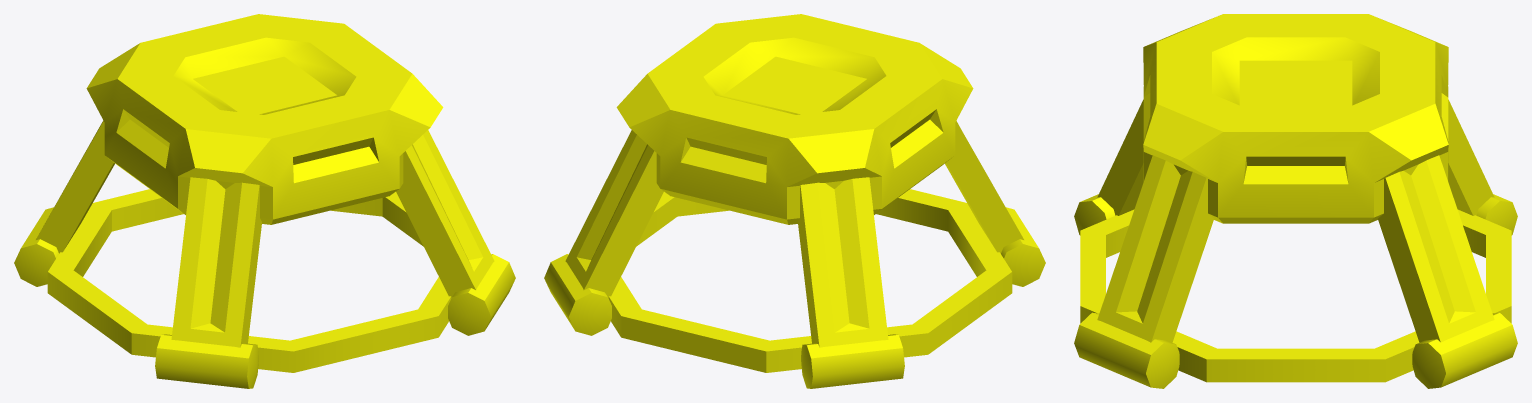
Rendered from kaykit-structure-low.glb.
3 views of the same model, side by side, from view 1: azimuth 30°, elevation 25°; view 2: azimuth 150°, elevation 25°; view 3: azimuth 270°, elevation 25° (orthographic). The views are drawn at different scales.
Parts seen in each view (by area): view 1: structure_low; view 2: structure_low; view 3: structure_low.
Boxes of the visible parts, x1,y1,x2,y2 form: structure_low: (14, 14, 515, 388); structure_low: (544, 14, 1045, 388); structure_low: (1074, 14, 1517, 388).
Size of the model in its own units: 1.75 by 1 by 1.75.
